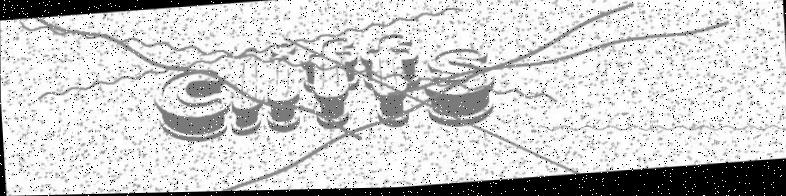c: (151, 67, 232, 147)
f: (356, 33, 423, 132), (297, 36, 362, 134)
i: (261, 42, 303, 136)
l: (227, 46, 264, 139)
s: (421, 48, 497, 132)
